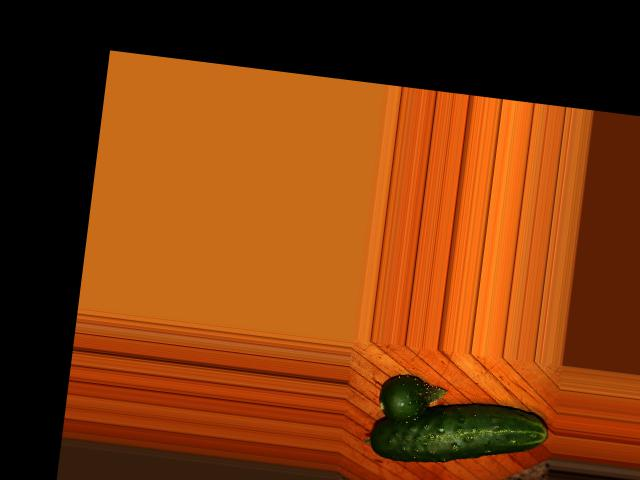cucumber: (367, 390, 550, 478)
